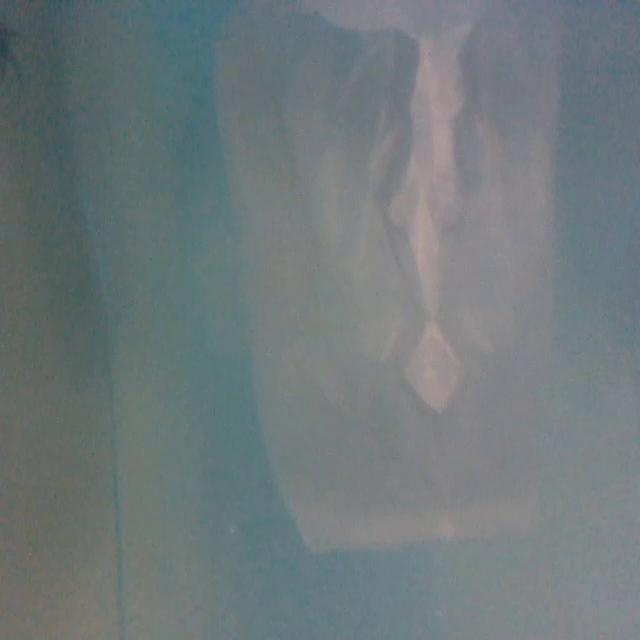plastic bags: (224, 3, 555, 546)
